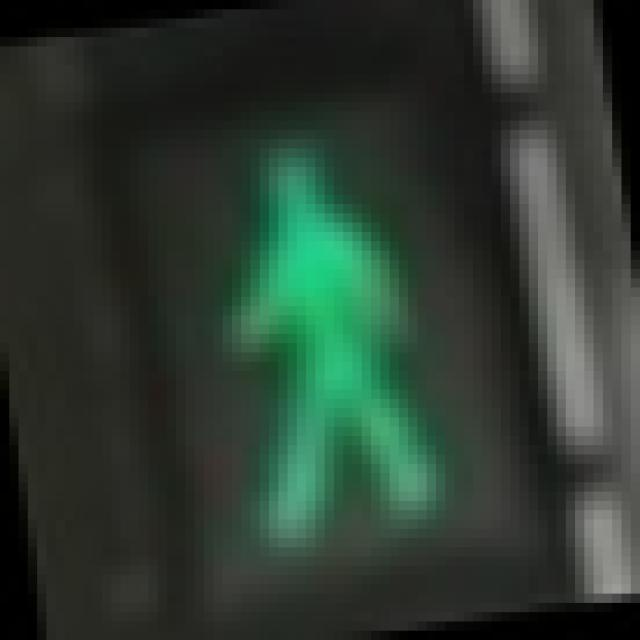geen-crossing: (158, 83, 454, 538)
